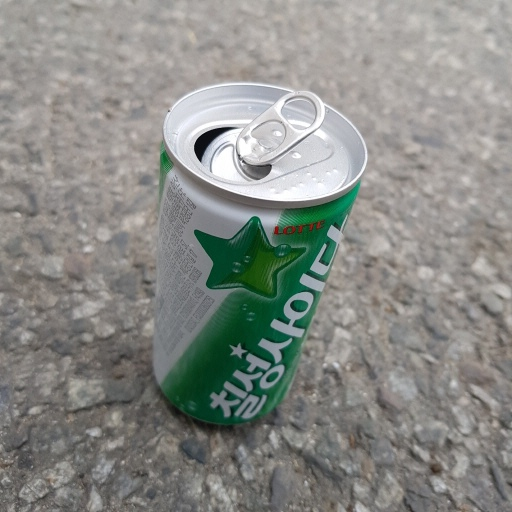Metal_0: (143, 82, 369, 426)
